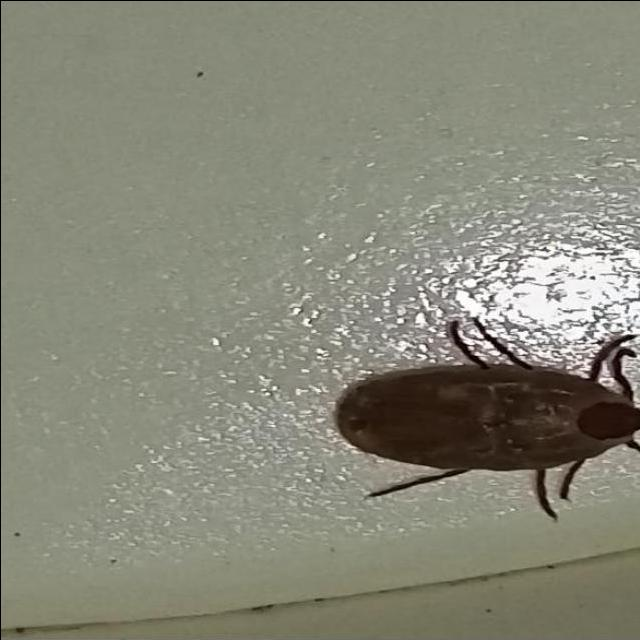Rhipicephalus Sanguineus-F-Fed: (331, 320, 640, 517)
